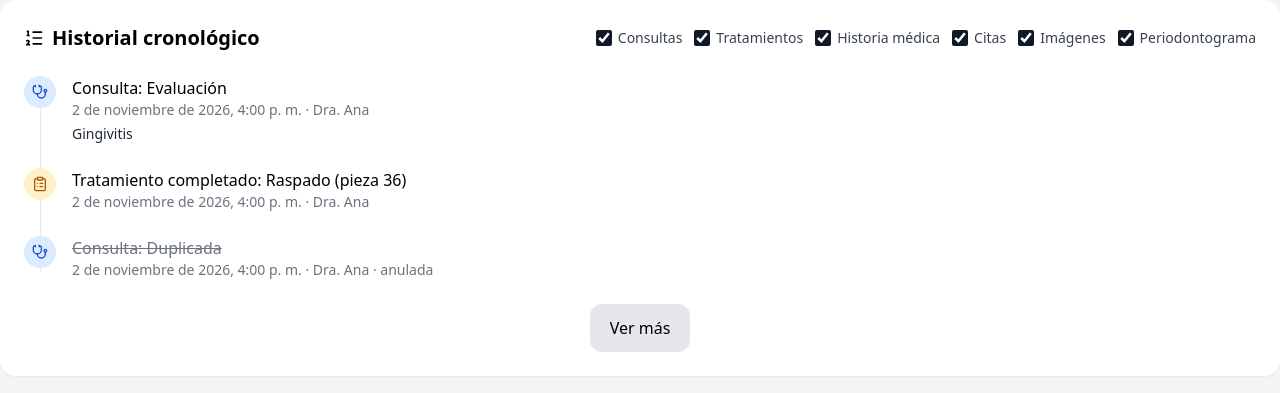
TimelineCard › «Ver más» trae la página siguiente con el cursor
The width and height of the screenshot is (1280, 393).
Click the button "Ver más": {"x": 640, "y": 328} top-left (590, 304), bottom-right (690, 352)
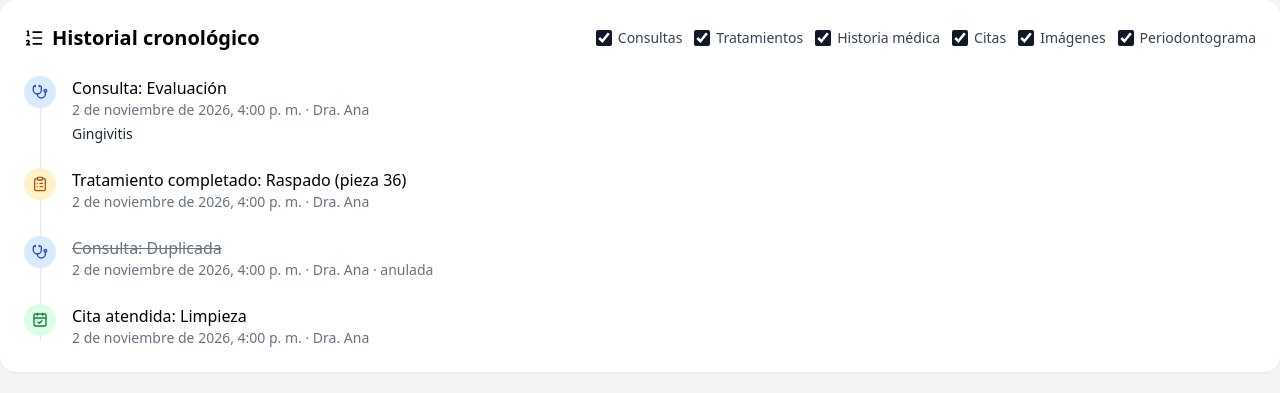
Expected: the text "Cita atendida: Limpieza" is shown, top-left (72, 305), bottom-right (247, 327)
Expected: the button "Ver más" is gone
